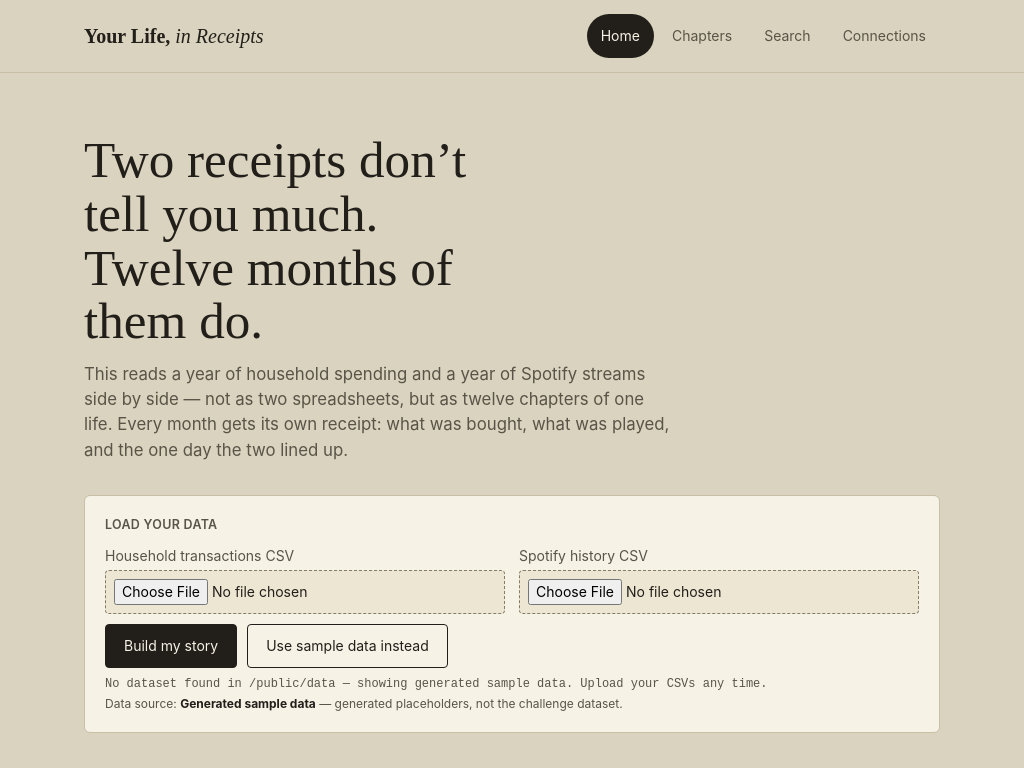
App › shows a helpful message instead of wiping data when no file is chosen
Check: the text "showing generated sample data" is shown, box [105,678,768,692]
Click the button "Build my story": (171, 646) [105,624,237,668]
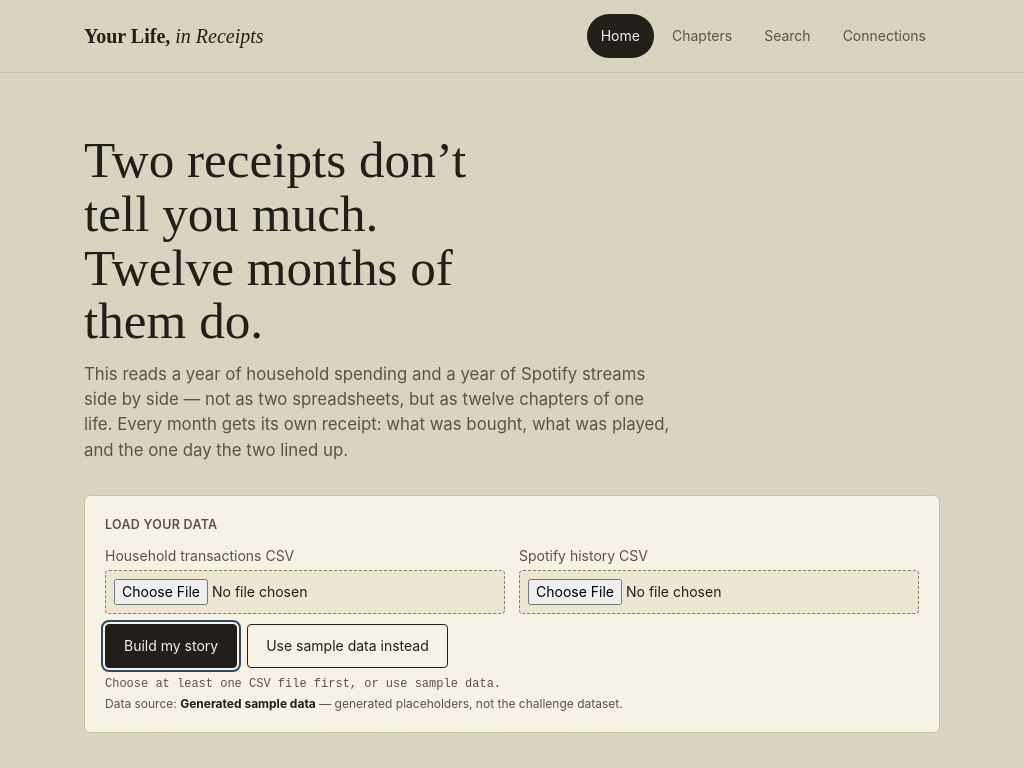
Check: the text "Choose at least one CSV file first, or use sample data." is shown, box [105,678,501,692]
